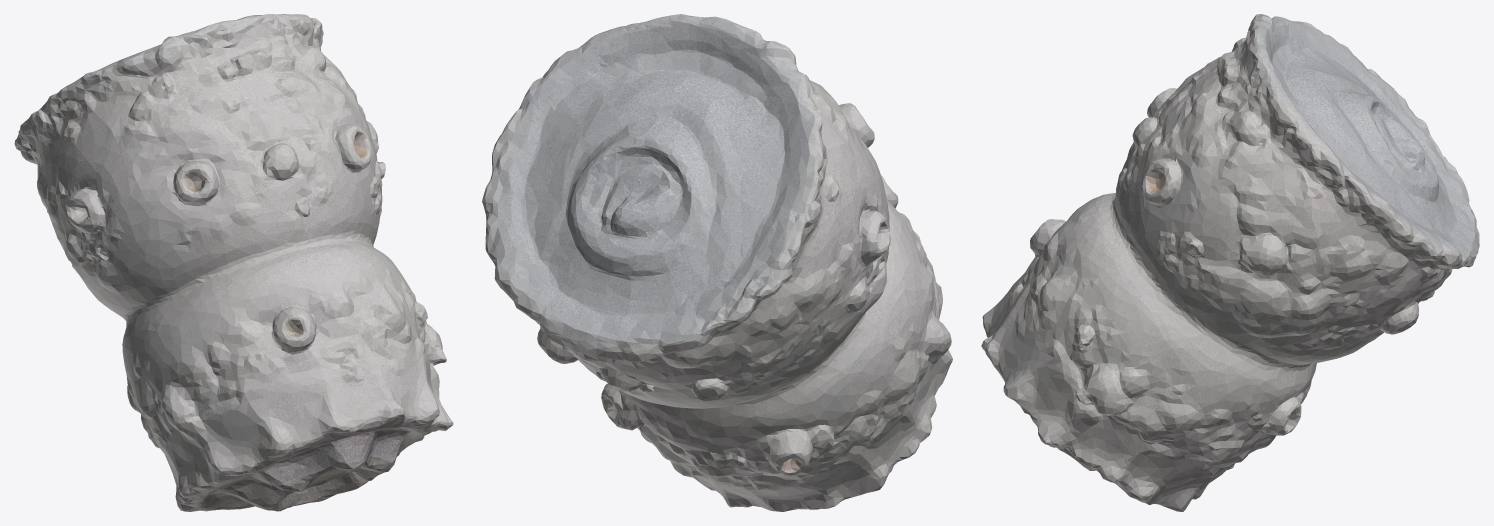
The model's file is wing (149).glb.
3 views of the same model, side by side, from view 1: azimuth 30°, elevation 25°; view 2: azimuth 150°, elevation 25°; view 3: azimuth 270°, elevation 25° (orthographic). The views are drawn at different scales.
Visible parts, largest first — view 1: Hy21_Mesh.obj; view 2: Hy21_Mesh.obj; view 3: Hy21_Mesh.obj.
Part boxes in pixels (bbox=[...]): Hy21_Mesh.obj: bbox=[14, 14, 453, 511]; Hy21_Mesh.obj: bbox=[482, 14, 952, 511]; Hy21_Mesh.obj: bbox=[981, 14, 1479, 511].
Size of the model in its own units: 1.36 by 1.96 by 1.94.
Materials: 1 (1 with a texture image).
